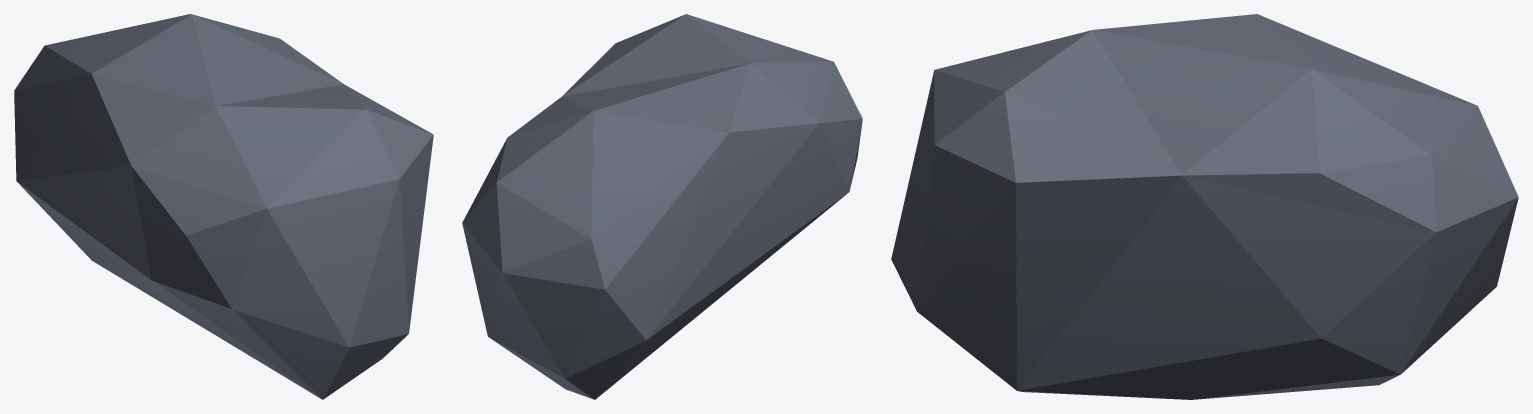
File: BigRock_03.fbx
The picture shows the model from 3 angles, left to right: view 1: azimuth 30°, elevation 25°; view 2: azimuth 150°, elevation 25°; view 3: azimuth 270°, elevation 25°; orthographic projection. The views are drawn at different scales.
Visible parts, largest first — view 1: BigRock_03; view 2: BigRock_03; view 3: BigRock_03.
Boxes of the visible parts, bbox=[...] form: BigRock_03: bbox=[14, 14, 433, 399]; BigRock_03: bbox=[462, 14, 862, 399]; BigRock_03: bbox=[891, 14, 1518, 399].
Size of the model in its own units: 161 by 166 by 292.
